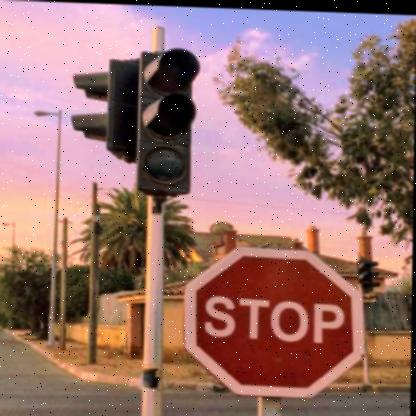Stop Sign: (183, 239, 371, 396)
